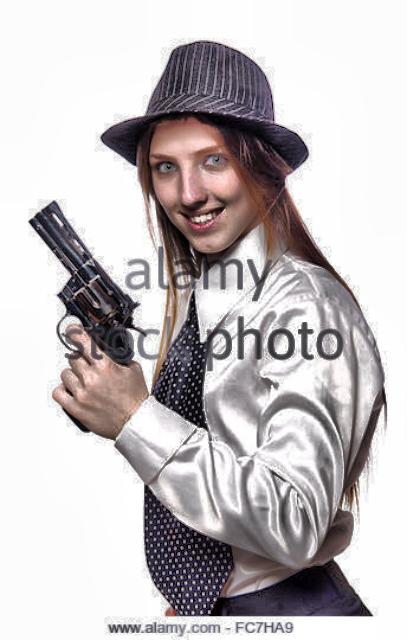pistol: (21, 200, 149, 434)
